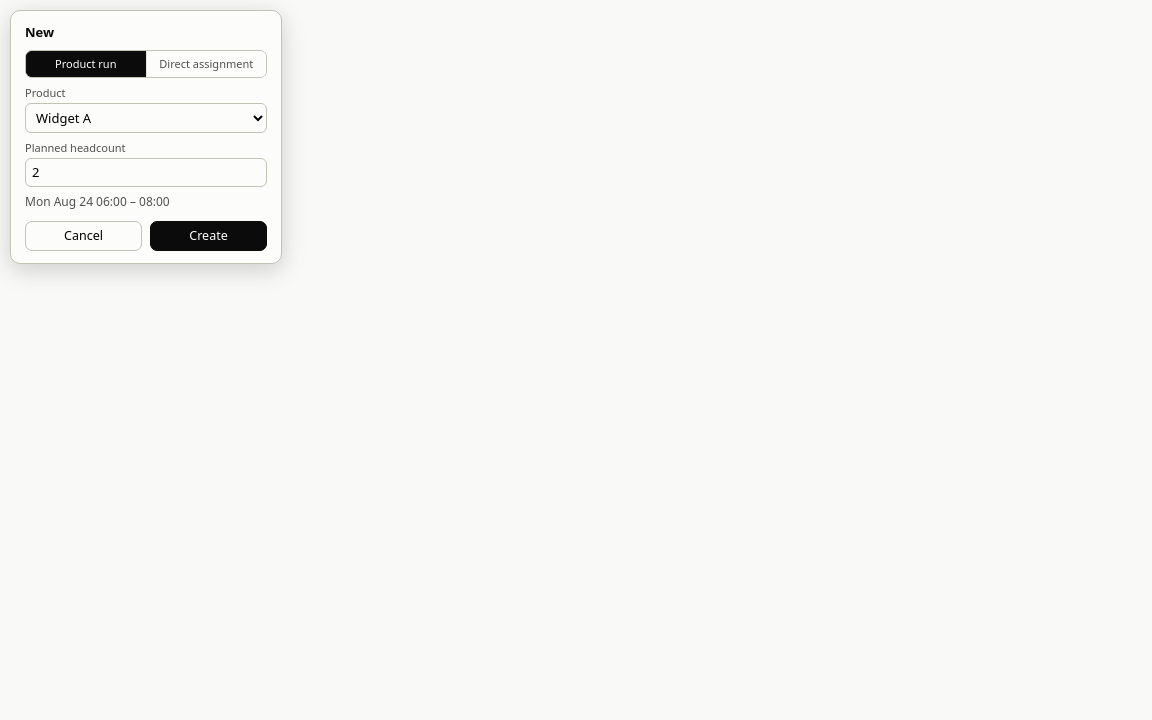
Test: CreatePopover — the type selector (R-026) › C3: clicking the other segment switches the fields shown, without reloading the popover
Click the button "Direct assignment" at coordinates (206, 64), box left=146, top=51, right=266, bottom=77
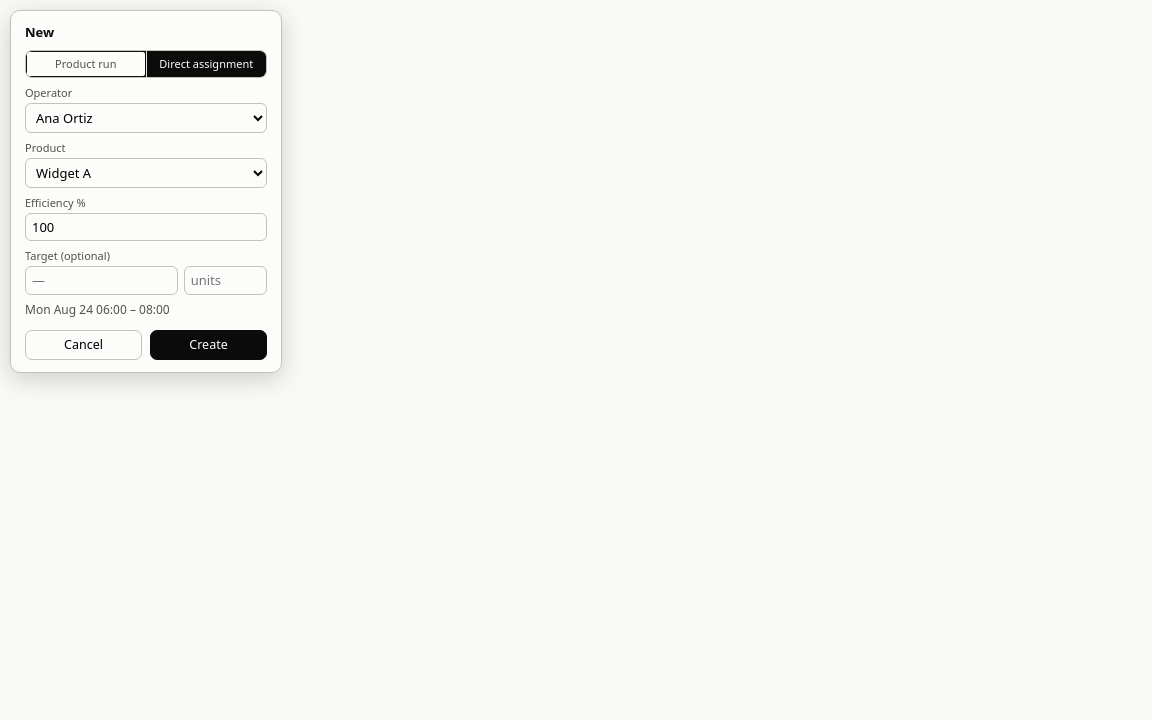
Expected: the dropdown labelled "Operator" is shown, left=25, top=103, right=267, bottom=133
Click the button "Product run" at coordinates (86, 64), box left=26, top=51, right=146, bottom=77
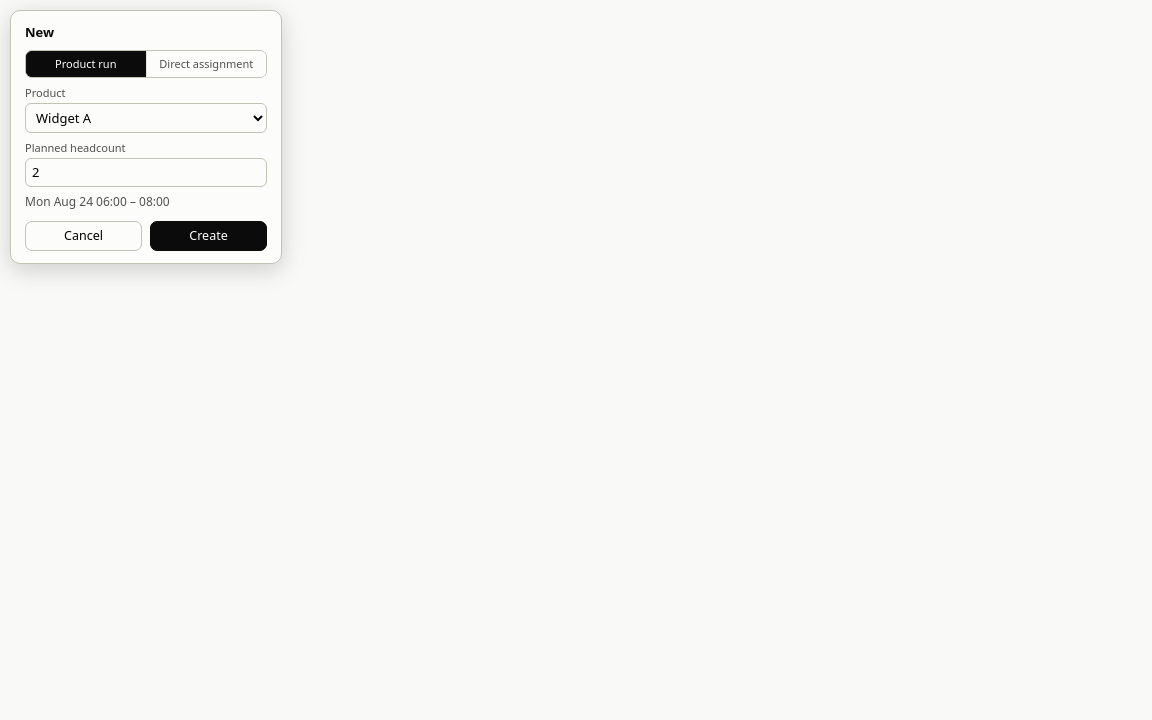
Expected: the number field labelled "Planned headcount" is shown, left=25, top=158, right=267, bottom=186
